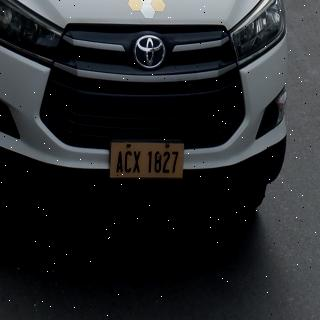license: (111, 143, 185, 179)
